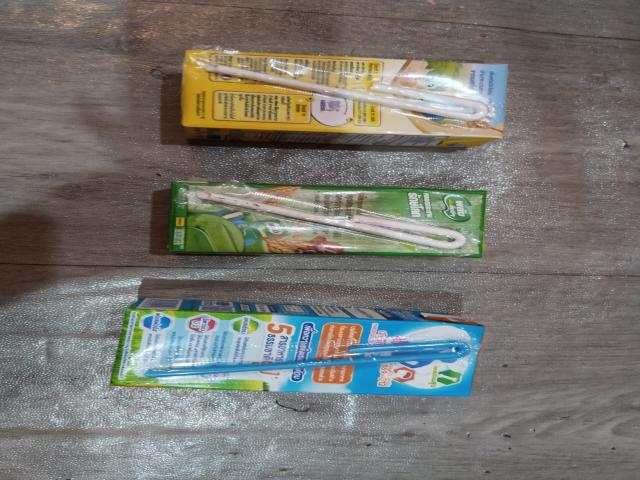drink_box: (103, 296, 488, 403), (166, 44, 522, 150), (151, 174, 510, 264)
